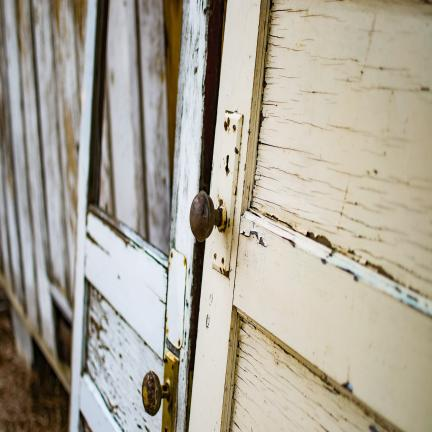karat: (190, 191, 221, 242), (142, 371, 162, 415)
